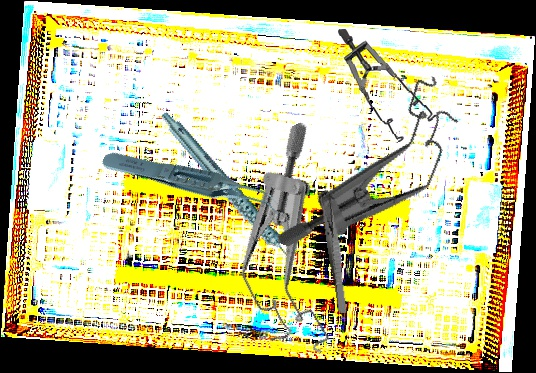Dressing Forceps: (319, 193, 351, 314)
Handpiece: (160, 90, 299, 296)
Speculum: (188, 120, 400, 371), (273, 44, 473, 289), (338, 22, 439, 147)
Tissue Forceps: (99, 117, 285, 251)
